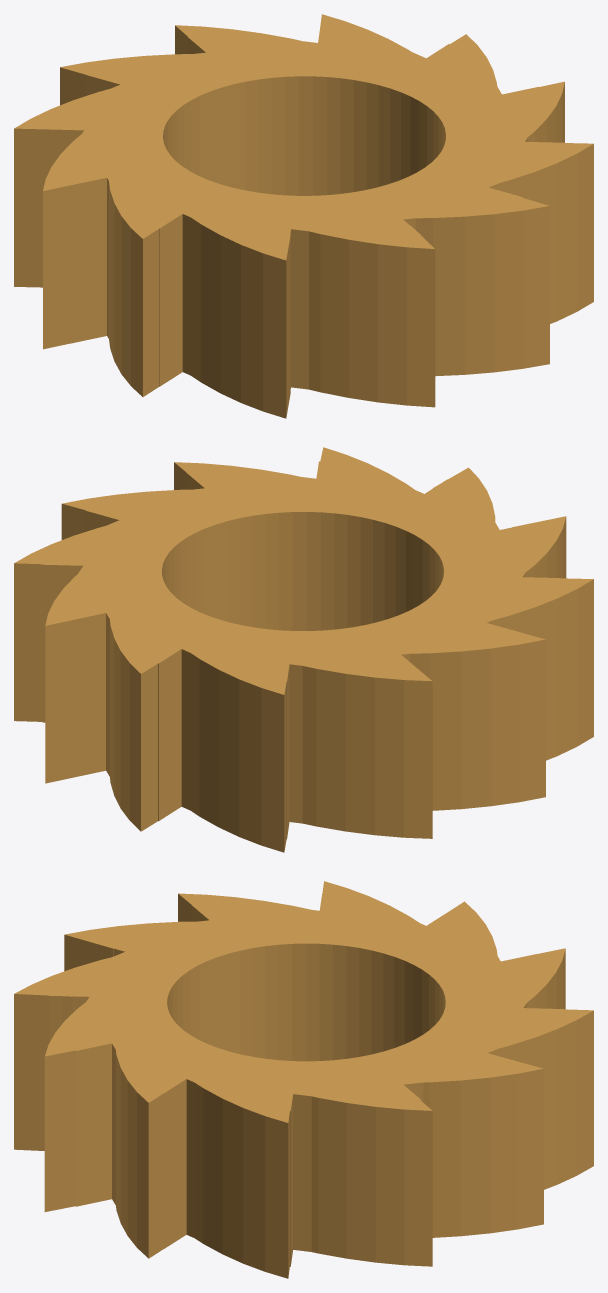
File: gear_turnblocker.glb
3 renders of one model, top to bottom at view 1: azimuth 30°, elevation 25°; view 2: azimuth 150°, elevation 25°; view 3: azimuth 270°, elevation 25°, orthographic.
Parts seen in each view (by area): view 1: Mesh_Mesh_head_geo.001_lambert2SG.001; view 2: Mesh_Mesh_head_geo.001_lambert2SG.001; view 3: Mesh_Mesh_head_geo.001_lambert2SG.001.
Part boxes in pixels (left/top/right/bottom): Mesh_Mesh_head_geo.001_lambert2SG.001: left=14, top=14, right=593, bottom=418; Mesh_Mesh_head_geo.001_lambert2SG.001: left=14, top=447, right=593, bottom=852; Mesh_Mesh_head_geo.001_lambert2SG.001: left=14, top=881, right=593, bottom=1278.
Size of the model in its own units: 0.0167 by 0.005 by 0.0169.
